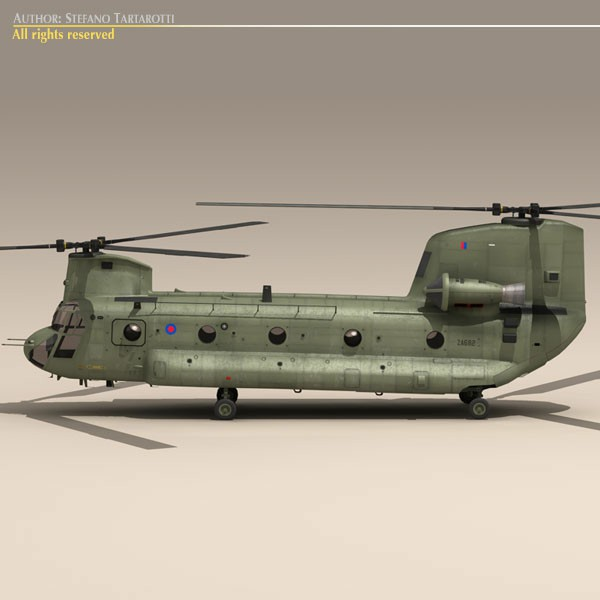chinook: (13, 196, 596, 421)
